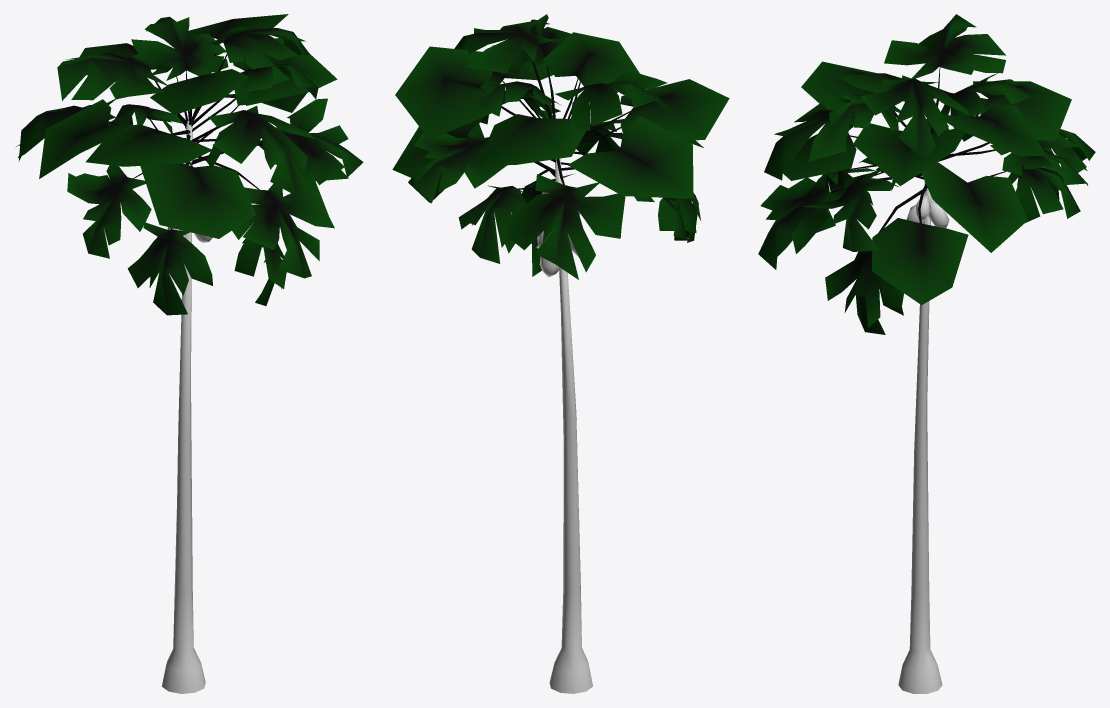
Rendered from PapayaTree001_afsTREE_xlprl05_xef80_xmm_xlod01.fbx.
The picture shows the model from 3 angles, left to right: view 1: azimuth 30°, elevation 25°; view 2: azimuth 150°, elevation 25°; view 3: azimuth 270°, elevation 25°; orthographic projection.
Visible parts, largest first — view 1: trunk_xw05_xt05_xlp00, stem.005_xt15_xlp05_xp05, stem.012_xt15_xlp05_xp03, stem.022_xt15_xlp05_xp05, stem.010_xt15_xlp05_xp07, stem.013_xt10_xlp03_xp06, stem.029_xt15_xlp05, stem.024_xt15_xlp05_xp07, stem.023_xt15_xlp05, stem.032_xt15_xlp05_xp08, stem.011_xt15_xlp05_xp09, stem.033_xt15_xlp05_xp04 (+8 smaller); view 2: trunk_xw05_xt05_xlp00, stem.002_xt15_xlp05_xp01, stem.011_xt15_xlp05_xp09, stem.027_xt15_xlp05_xp10, stem.026_xt15_xlp05_xp02, stem.023_xt15_xlp05, stem.015_xt15_xlp05, stem.031_xt15_xlp05_xp01, stem.029_xt15_xlp05, stem.033_xt15_xlp05_xp04, stem.004_xt15_xlp05, stem.032_xt15_xlp05_xp08 (+6 smaller); view 3: trunk_xw05_xt05_xlp00, stem.003_xt15_xlp05_xp10, stem.021_xt15_xlp05_xp08, stem.029_xt15_xlp05, stem.012_xt15_xlp05_xp03, stem.033_xt15_xlp05_xp04, stem.014_xt10_xlp05.001, stem.025_xt15_xlp05_xp10, stem.027_xt15_xlp05_xp10, stem.024_xt15_xlp05_xp07, stem.022_xt15_xlp05_xp05, stem.026_xt15_xlp05_xp02 (+9 smaller).
Boxes of the visible parts, box(x1,y1,x2,y2) form: trunk_xw05_xt05_xlp00: box(161, 120, 205, 693); stem.005_xt15_xlp05_xp05: box(140, 134, 255, 238); stem.012_xt15_xlp05_xp03: box(198, 156, 334, 278); stem.022_xt15_xlp05_xp05: box(191, 106, 314, 195); stem.010_xt15_xlp05_xp07: box(67, 165, 151, 258); stem.013_xt10_xlp03_xp06: box(127, 162, 212, 315); stem.029_xt15_xlp05: box(57, 51, 187, 124); stem.024_xt15_xlp05_xp07: box(194, 98, 363, 190); stem.023_xt15_xlp05: box(85, 124, 211, 166); stem.032_xt15_xlp05_xp08: box(131, 16, 226, 120); stem.011_xt15_xlp05_xp09: box(39, 99, 185, 178); stem.033_xt15_xlp05_xp04: box(191, 26, 309, 121); trunk_xw05_xt05_xlp00: box(549, 158, 592, 693); stem.002_xt15_xlp05_xp01: box(506, 158, 625, 279); stem.011_xt15_xlp05_xp09: box(568, 115, 693, 198); stem.027_xt15_xlp05_xp10: box(395, 46, 515, 139); stem.026_xt15_xlp05_xp02: box(477, 114, 586, 166); stem.023_xt15_xlp05: box(585, 79, 729, 140); stem.015_xt15_xlp05: box(413, 123, 506, 203); stem.031_xt15_xlp05_xp01: box(542, 32, 639, 118); stem.029_xt15_xlp05: box(555, 69, 674, 130); stem.033_xt15_xlp05_xp04: box(454, 20, 562, 118); stem.004_xt15_xlp05: box(458, 185, 535, 263); stem.032_xt15_xlp05_xp08: box(479, 81, 561, 118); trunk_xw05_xt05_xlp00: box(898, 181, 942, 693); stem.003_xt15_xlp05_xp10: box(872, 184, 968, 304); stem.021_xt15_xlp05_xp08: box(921, 162, 1027, 252); stem.029_xt15_xlp05: box(884, 14, 1005, 132); stem.012_xt15_xlp05_xp03: box(758, 170, 922, 269); stem.033_xt15_xlp05_xp04: box(860, 78, 968, 155); stem.014_xt10_xlp05.001: box(825, 189, 926, 334); stem.025_xt15_xlp05_xp10: box(853, 123, 965, 185); stem.027_xt15_xlp05_xp10: box(939, 104, 1046, 156); stem.024_xt15_xlp05_xp07: box(803, 169, 898, 251); stem.022_xt15_xlp05_xp05: box(764, 103, 862, 180); stem.026_xt15_xlp05_xp02: box(973, 81, 1071, 140).
Size of what is drawn, in the model's own units: 2.38 by 2.37 by 4.89.
